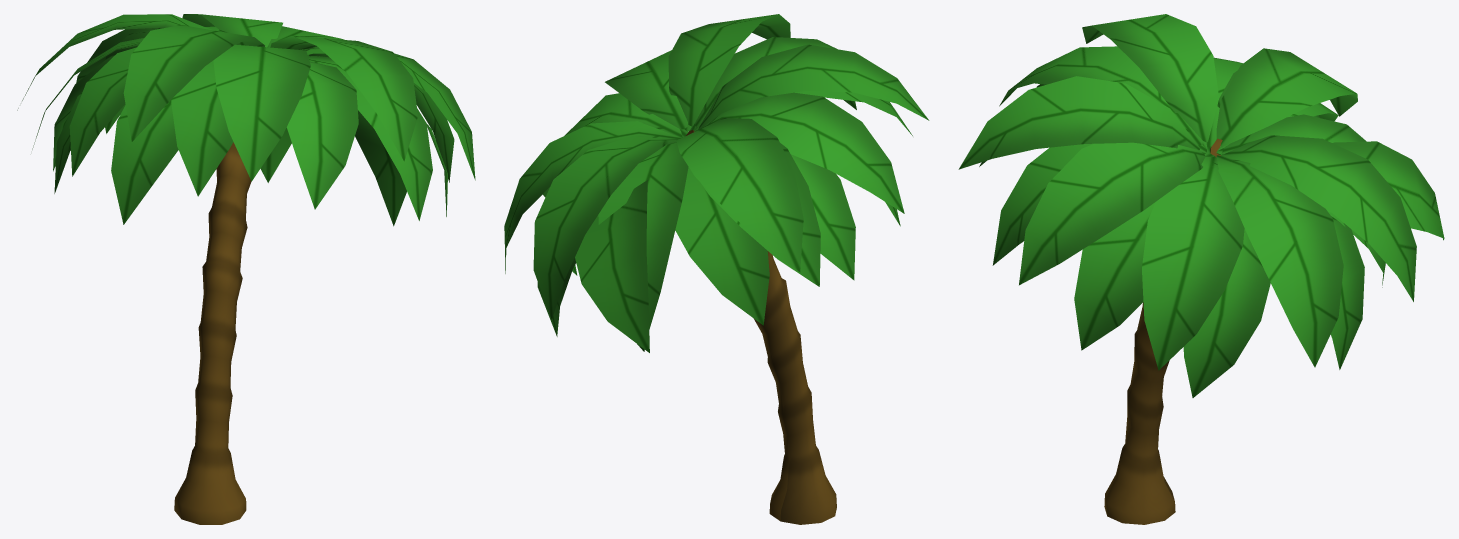
3 renders of one model, left to right at view 1: azimuth 30°, elevation 25°; view 2: azimuth 150°, elevation 25°; view 3: azimuth 270°, elevation 25°, orthographic. The views are drawn at different scales.
Parts seen in each view (by area): view 1: Palm Tree 2; view 2: Palm Tree 2; view 3: Palm Tree 2.
Part boxes in pixels (x1=…): Palm Tree 2: x1=17, y1=14, x2=475, y2=524; Palm Tree 2: x1=504, y1=14, x2=929, y2=524; Palm Tree 2: x1=958, y1=14, x2=1444, y2=524.
Size of the model in its own units: 105 by 128 by 119.
